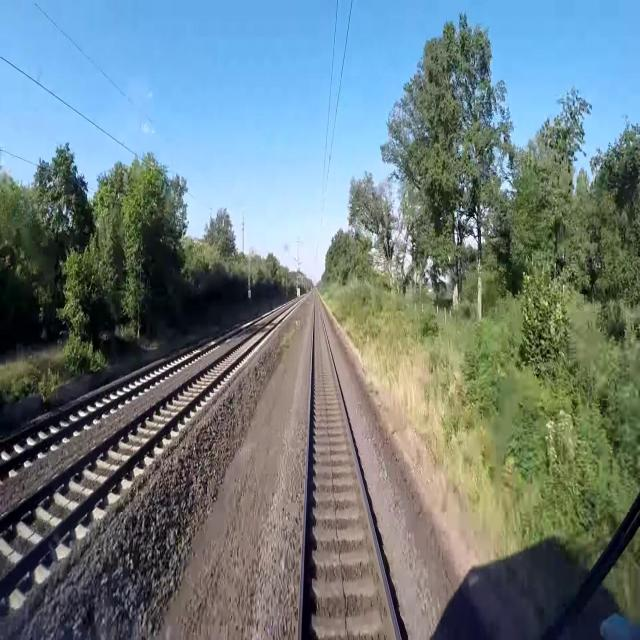rail-track: (0, 311, 285, 580), (0, 316, 261, 460), (302, 293, 396, 639)
